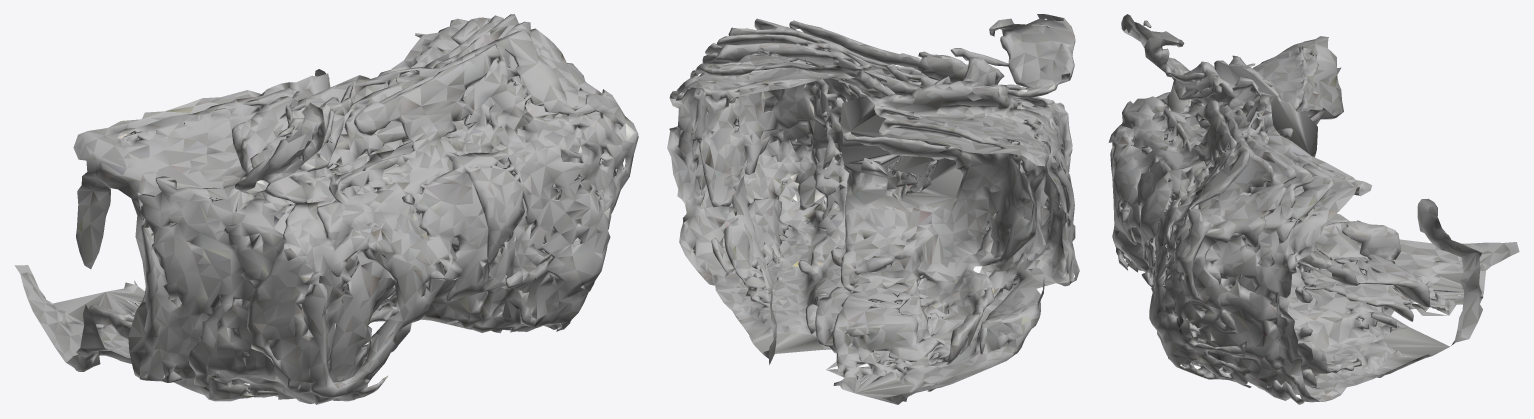
3 views of the same model, side by side, from view 1: azimuth 30°, elevation 25°; view 2: azimuth 150°, elevation 25°; view 3: azimuth 270°, elevation 25° (orthographic). The views are drawn at different scales.
Size of the model in its own units: 3.62 by 2.29 by 3.25.
